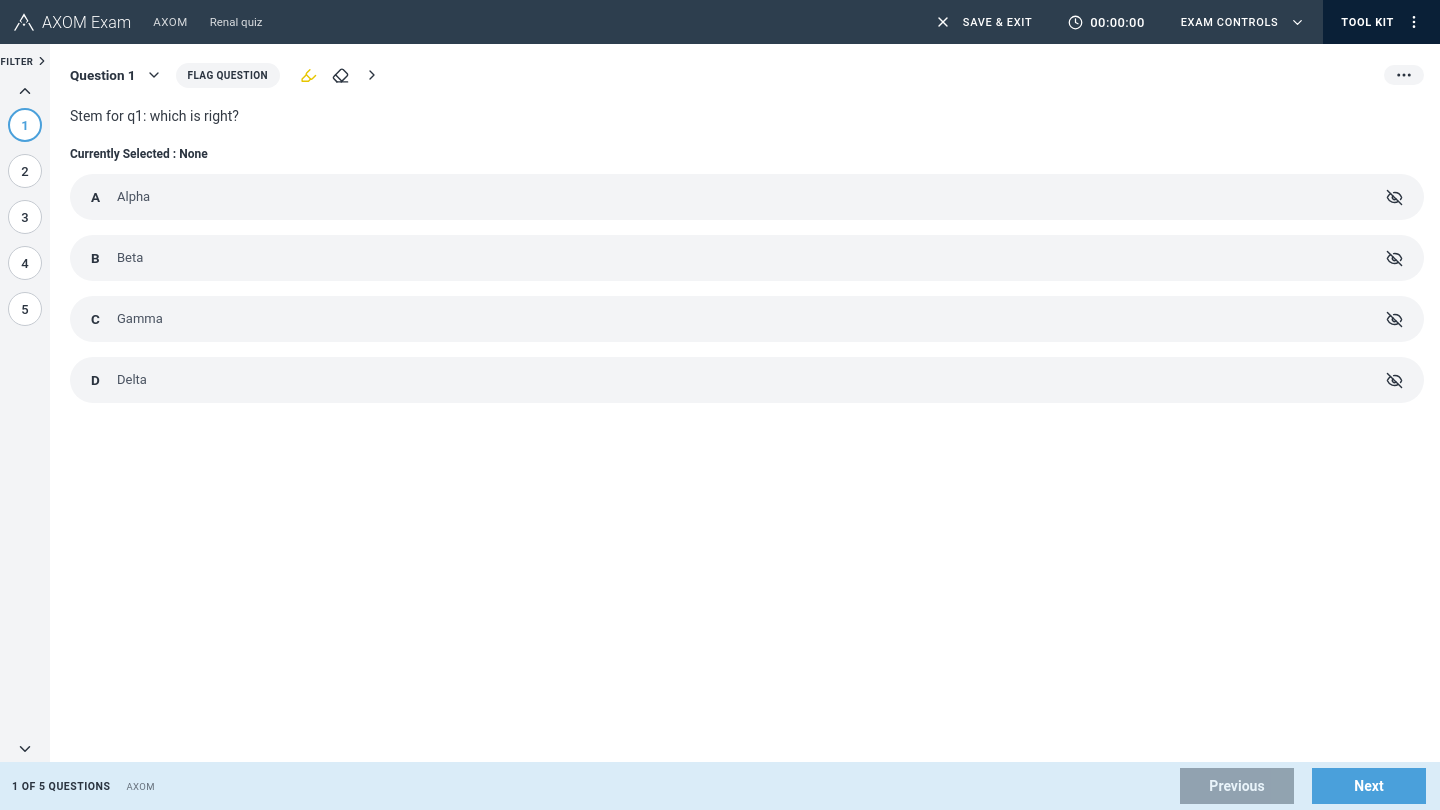
Scenario: Examplify interface › keeps the lab values as the exam's attachment, and says how the block works in a notice
Click the button "Exam Controls" at {"x": 1243, "y": 22}, box [1163,0,1323,44]
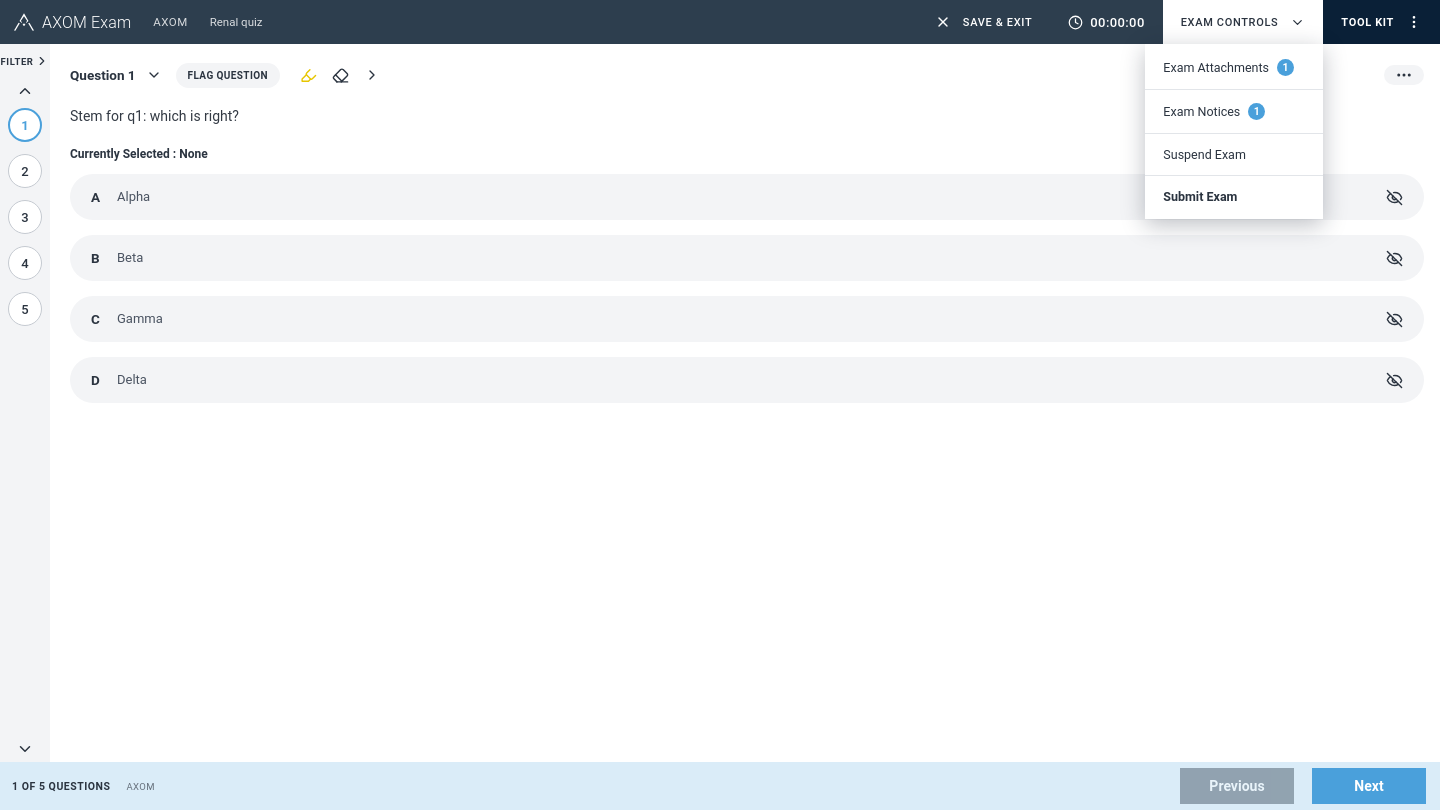
Click the menu item "Exam Attachments 1" at {"x": 1234, "y": 68}, box [1145,46,1323,90]
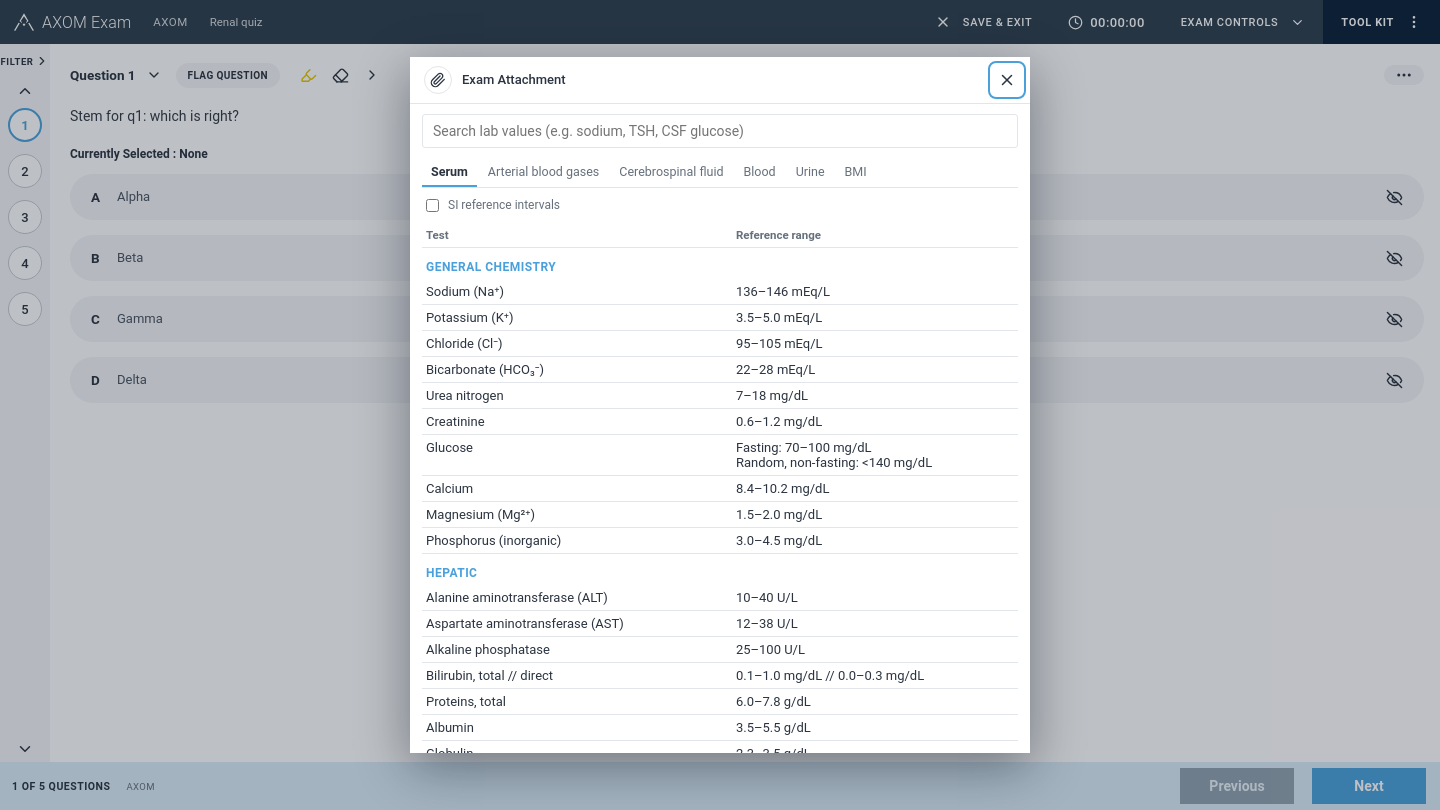
Type "tsh" into the search field labelled "Search lab values" at {"x": 720, "y": 131}, box [422,114,1018,148]
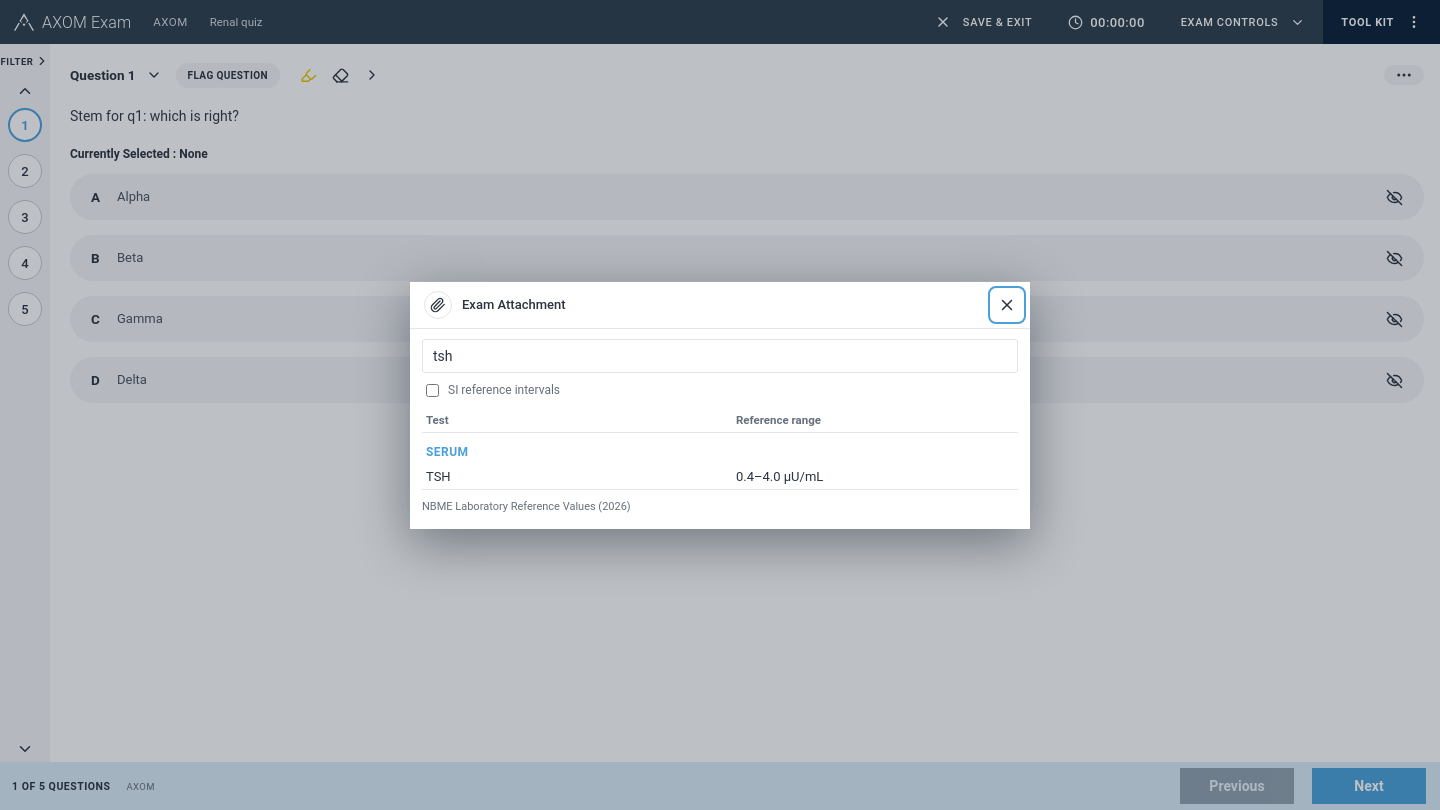
Expected: the text "0.4–4.0 μU/mL" is shown, [736,468,823,484]
Press Escape
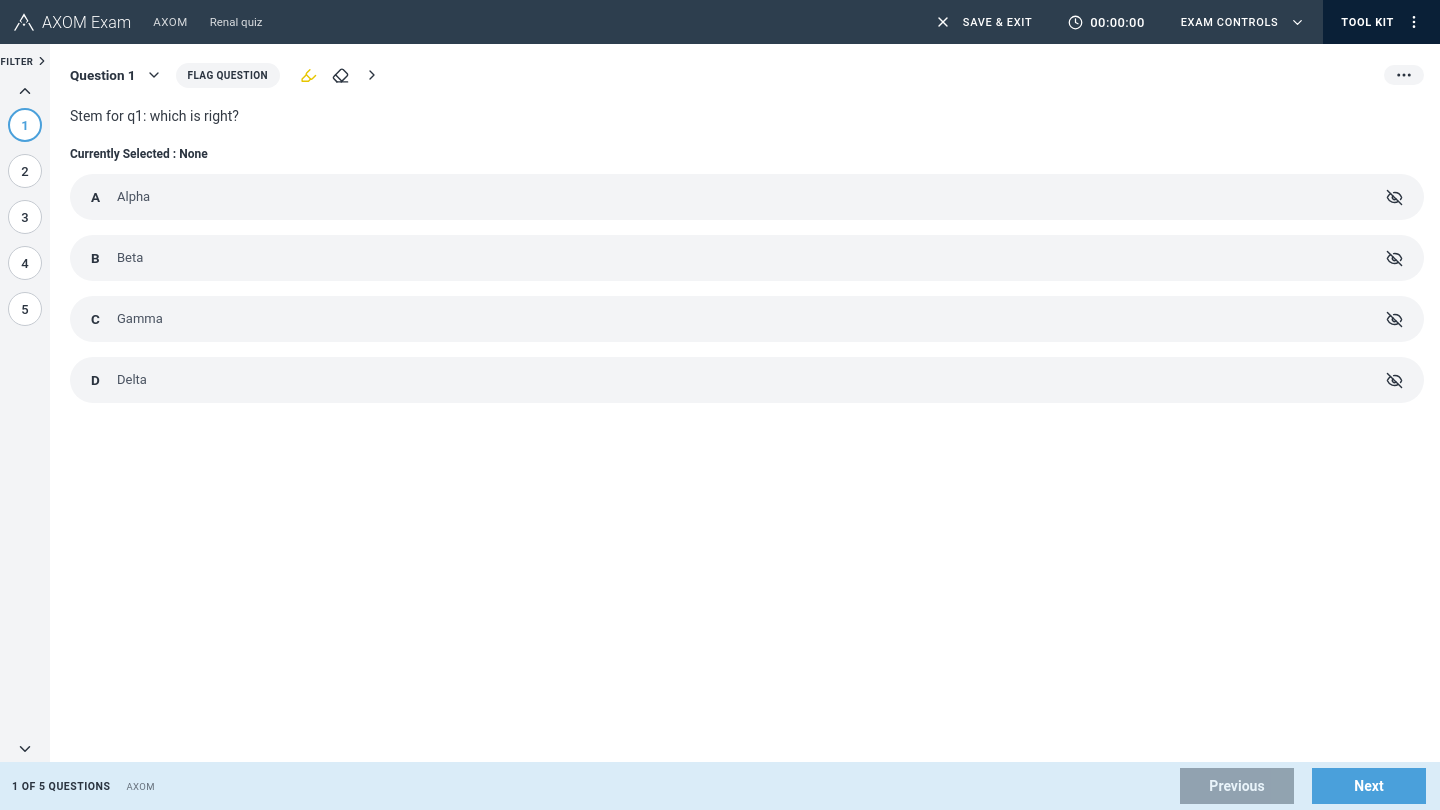
Expected: the text "Exam Attachment" is gone
Click the button "Exam Controls" at {"x": 1243, "y": 22}, box [1163,0,1323,44]
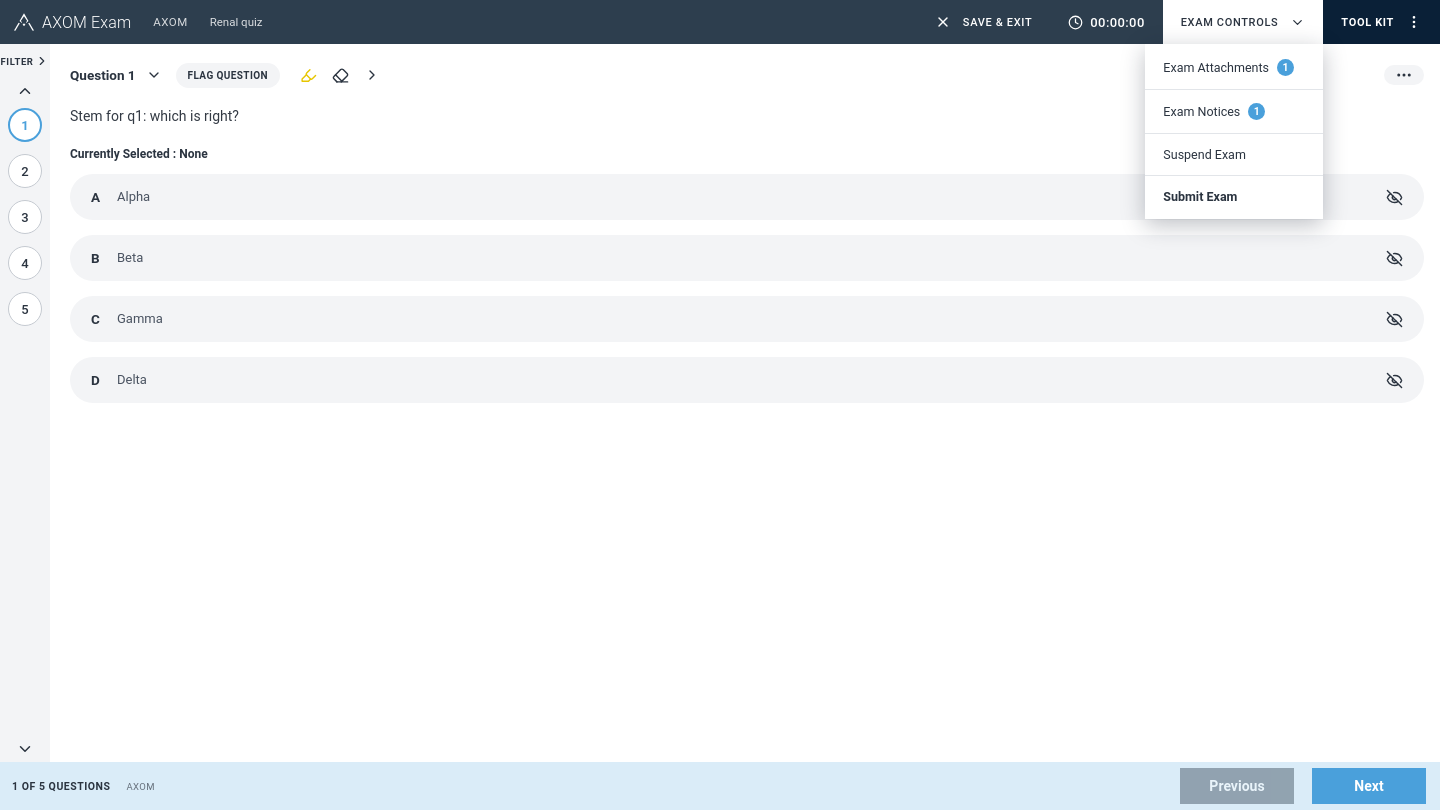
Click the menu item "Exam Notices 1" at {"x": 1234, "y": 112}, box [1145,90,1323,134]
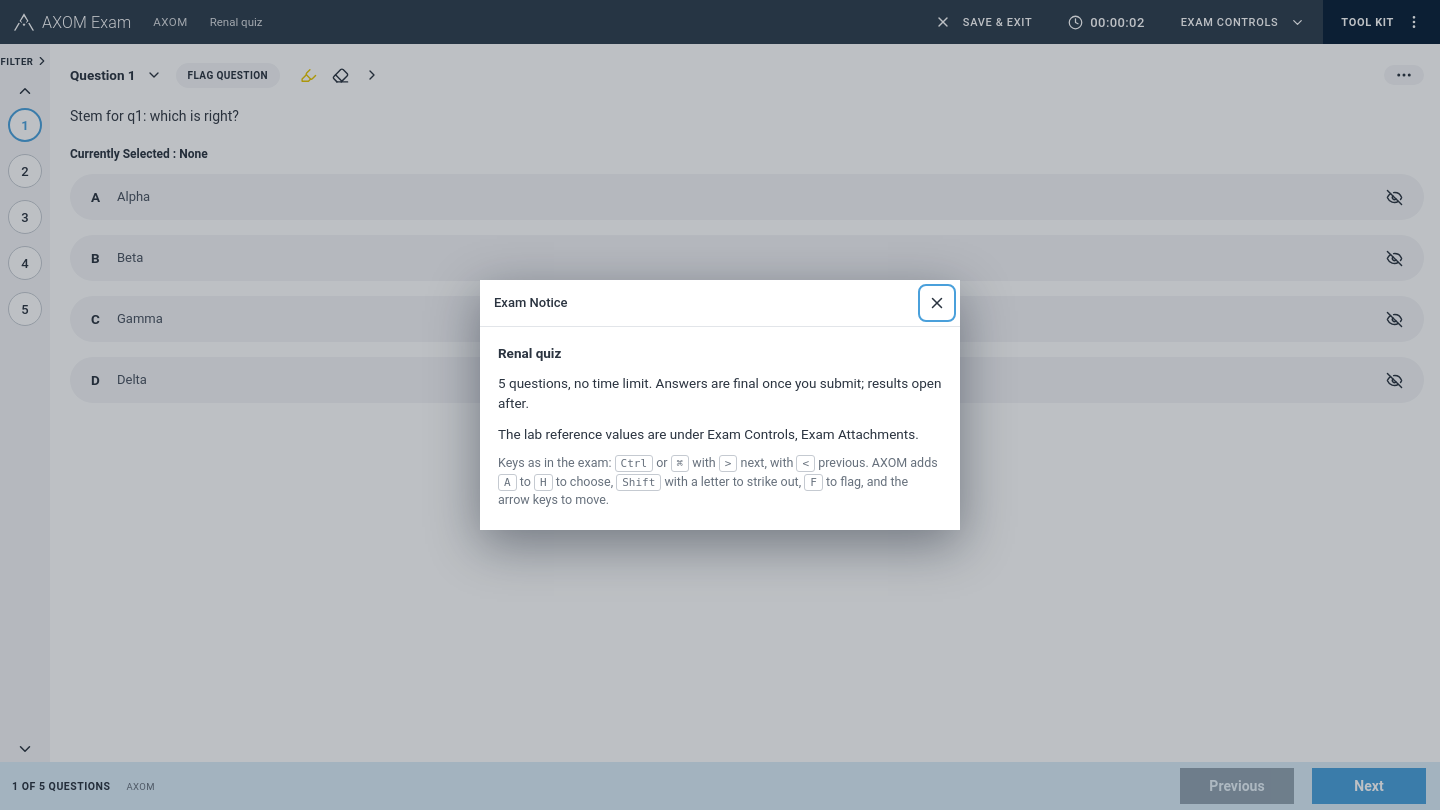
Expected: the text "5 questions, no time limit" is shown, [498,373,942,414]
